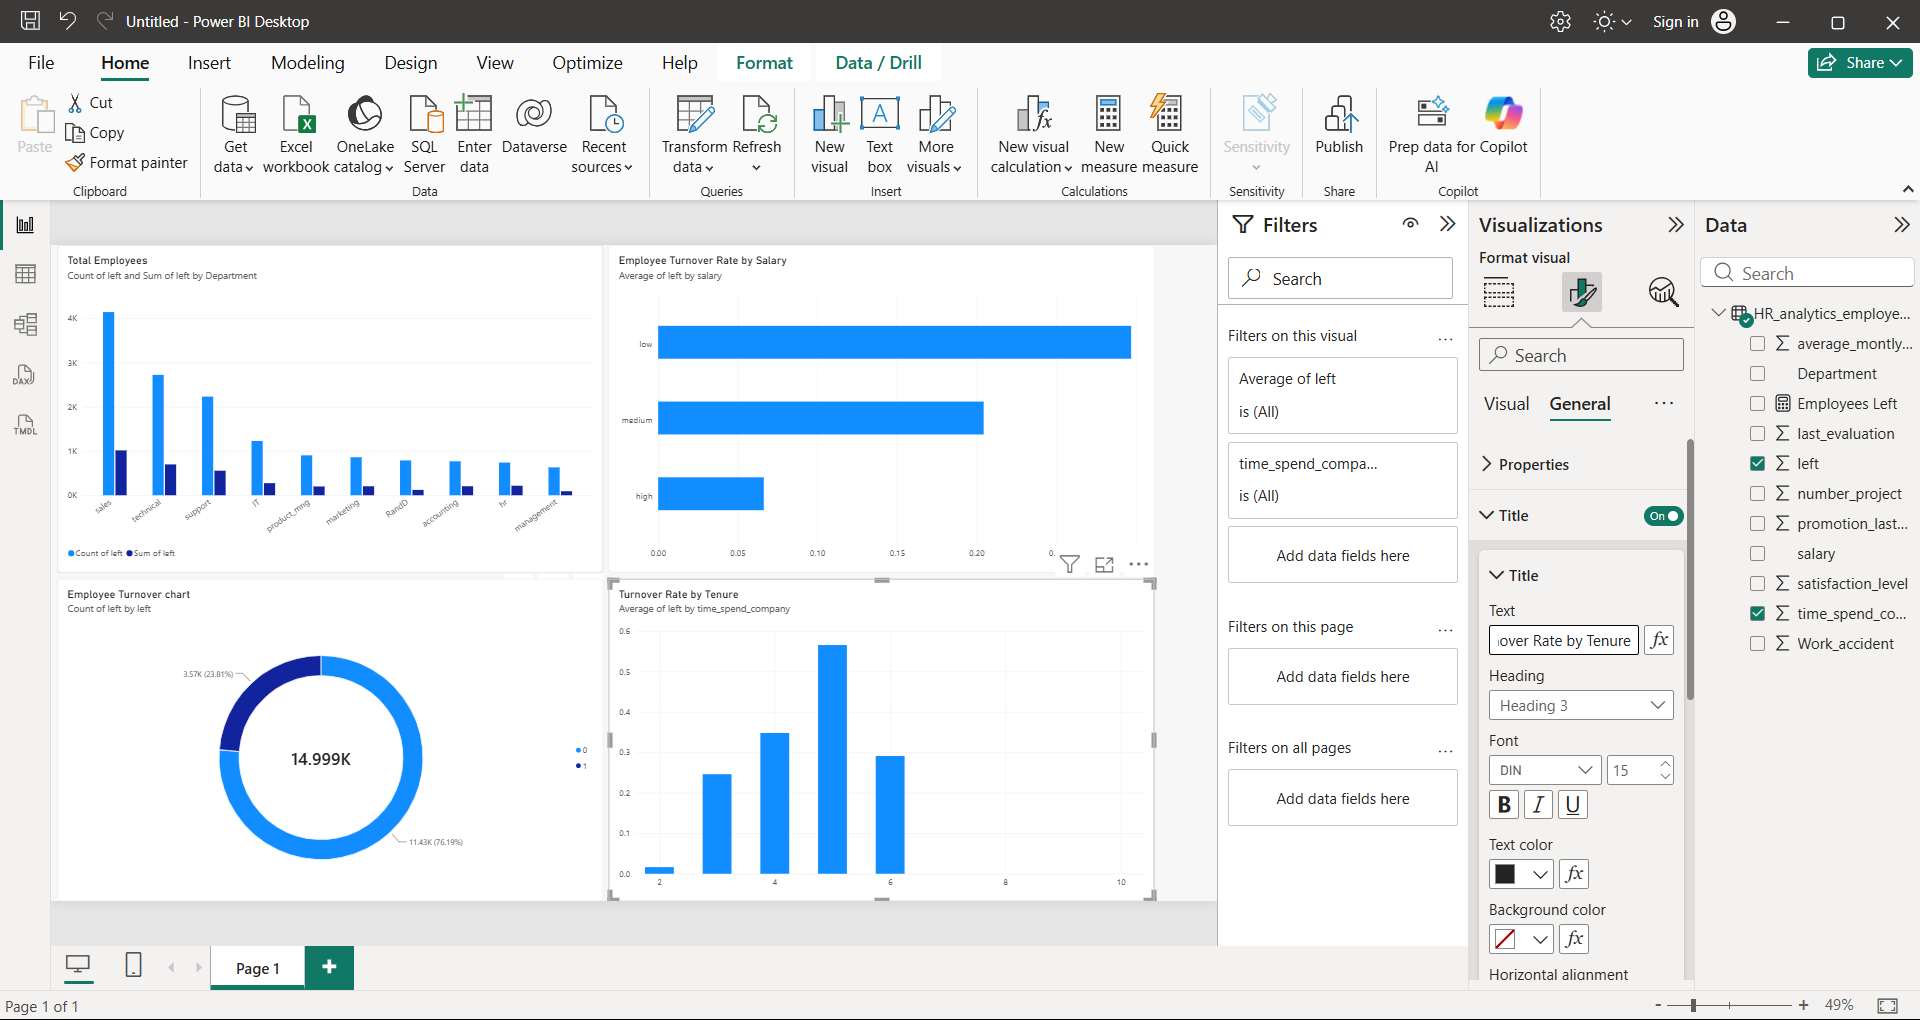

What the dashboard file says about the page in this screenshot:
{"tool":"powerbi","page":{"name":"Page 1","canvas":[1920,1080],"ordinal":0},"visuals":[{"type":"clusteredColumnChart","title":"Total Employees","fields":{"Category":["HR_analytics_employee_retention.Department"],"Y":["CountNonNull(HR_analytics_employee_retention.left)","Sum(HR_analytics_employee_retention.left)"]},"box":[10.3,0,899.5,539.3],"z":0},{"type":"donutChart","title":"Employee Turnover chart","fields":{"Category":["HR_analytics_employee_retention.left"],"Y":["CountNonNull(HR_analytics_employee_retention.left)"]},"box":[10,549,899,531],"z":1},{"type":"clusteredBarChart","title":"Employee Turnover Rate by Salary","fields":{"Category":["HR_analytics_employee_retention.salary"],"Y":["Avg(HR_analytics_employee_retention.left)"]},"box":[919,0,899,539],"z":2},{"type":"clusteredColumnChart","title":"Turnover Rate by Tenure","fields":{"Category":["HR_analytics_employee_retention.time_spend_company"],"Y":["Avg(HR_analytics_employee_retention.left)"]},"box":[919,549,899,531],"z":3}]}

Visuals, with their boxes on the page's 1920x1080 design canvas (x1, y1, x2, y2). These are canvas units, not pixel positions in the 1920x1020 screenshot, which may show the page scaled, cropped or inside an application window:
"Total Employees" clusteredColumnChart: l=10, t=0, r=910, b=539
"Employee Turnover chart" donutChart: l=10, t=549, r=909, b=1080
"Employee Turnover Rate by Salary" clusteredBarChart: l=919, t=0, r=1818, b=539
"Turnover Rate by Tenure" clusteredColumnChart: l=919, t=549, r=1818, b=1080
